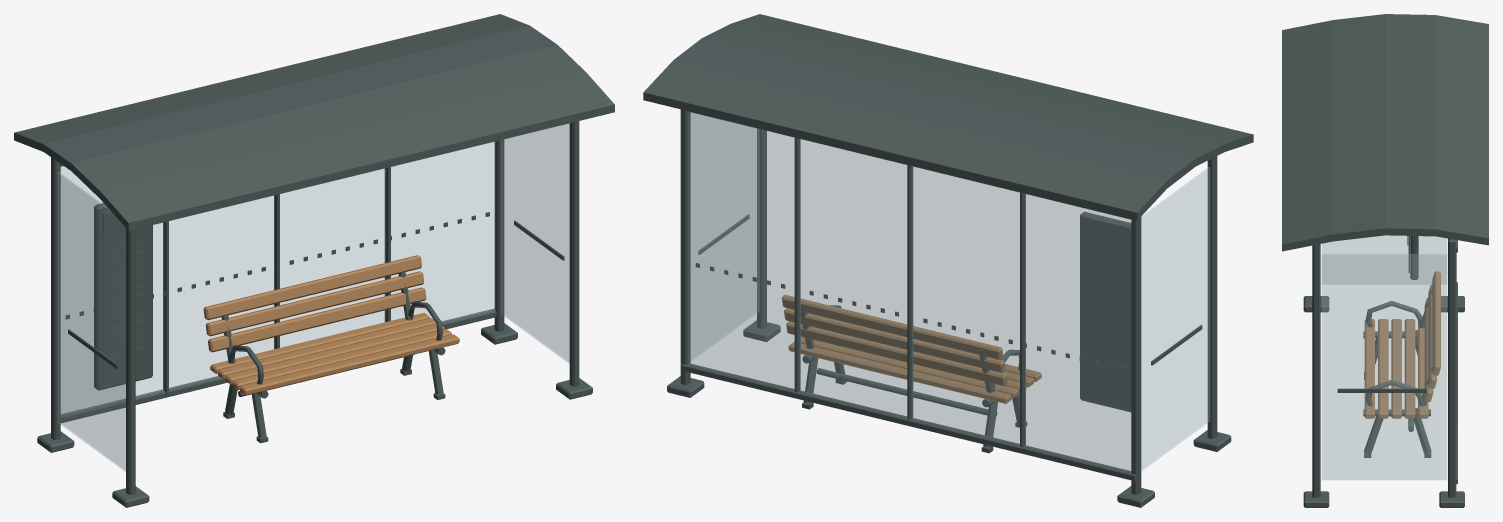
The model's file is transit-shelter.lod0.glb.
3 views of the same model, side by side, from view 1: azimuth 30°, elevation 25°; view 2: azimuth 150°, elevation 25°; view 3: azimuth 270°, elevation 25° (orthographic). The views are drawn at different scales.
Visible parts, largest first — view 1: metal, glass, wood; view 2: glass, metal, wood; view 3: metal, glass, wood.
Boxes of the visible parts, left/top/right/bottom form: metal: left=14, top=14, right=614, bottom=507; glass: left=58, top=123, right=569, bottom=471; wood: left=203, top=255, right=459, bottom=395; glass: left=688, top=112, right=1210, bottom=471; metal: left=643, top=14, right=1253, bottom=507; wood: left=781, top=295, right=1041, bottom=403; metal: left=1282, top=14, right=1488, bottom=507; glass: left=1321, top=235, right=1447, bottom=479; wood: left=1364, top=271, right=1440, bottom=418.
Size of the model in its own units: 4.56 by 2.82 by 1.86.
